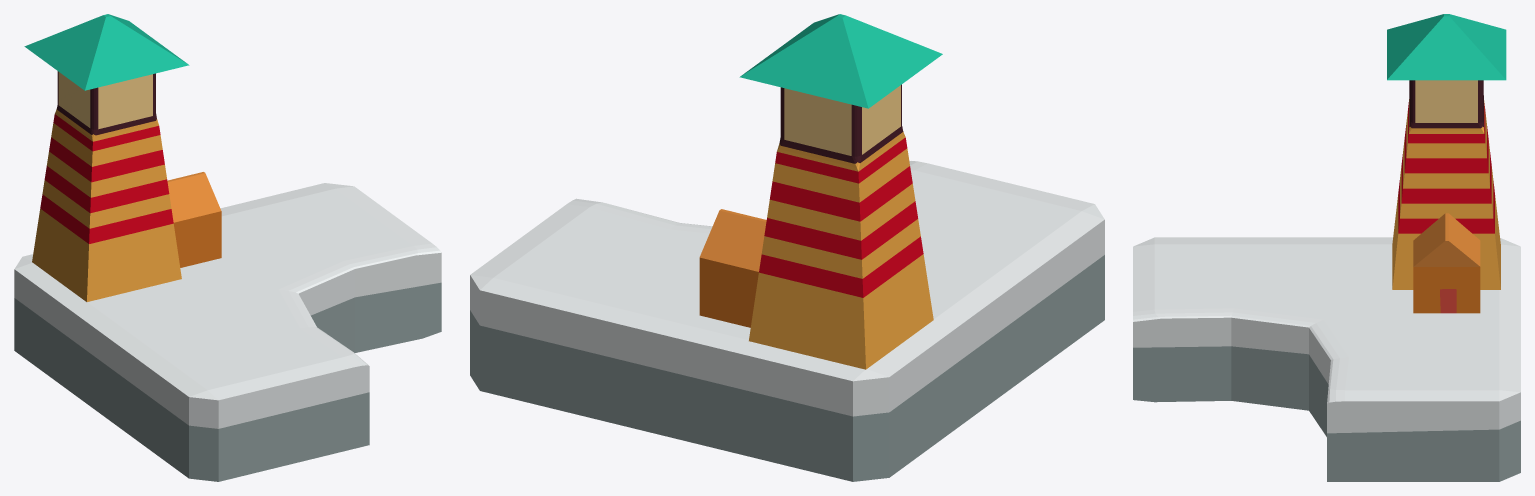
The model's file is lightHouse.fbx.
3 renders of one model, left to right at view 1: azimuth 30°, elevation 25°; view 2: azimuth 150°, elevation 25°; view 3: azimuth 270°, elevation 25°, orthographic. The views are drawn at different scales.
Visible parts, largest first — view 1: Cube, Cube.001; view 2: Cube, Cube.001; view 3: Cube, Cube.001.
Boxes of the visible parts, x1=… form: Cube: x1=14, y1=183, x2=441, y2=481; Cube.001: x1=24, y1=14, x2=221, y2=301; Cube: x1=470, y1=161, x2=1104, y2=481; Cube.001: x1=699, y1=14, x2=942, y2=369; Cube: x1=1133, y1=237, x2=1520, y2=481; Cube.001: x1=1387, y1=14, x2=1506, y2=313.
Bounding box in the file's own units: 2185 × 2094 × 2185.
